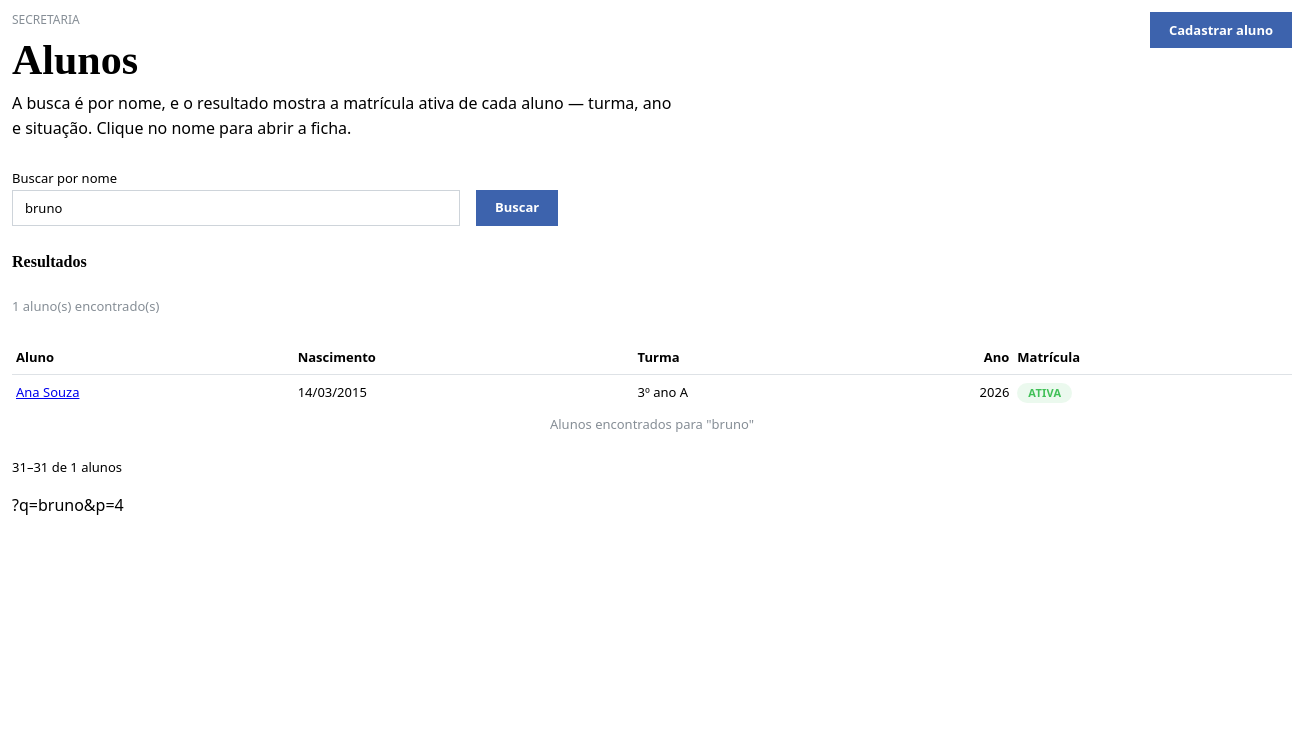
Scenario: searching › a new search drops the page from the address, where a bookmarkable `p=4` would make a search that found something read as a search that found nothing
Check: the link "Ana Souza" is shown, box [16, 383, 80, 401]
Step 1. Replace the text in the field labelled "Buscar por nome" with "ana" → (236, 208), box [12, 190, 460, 226]
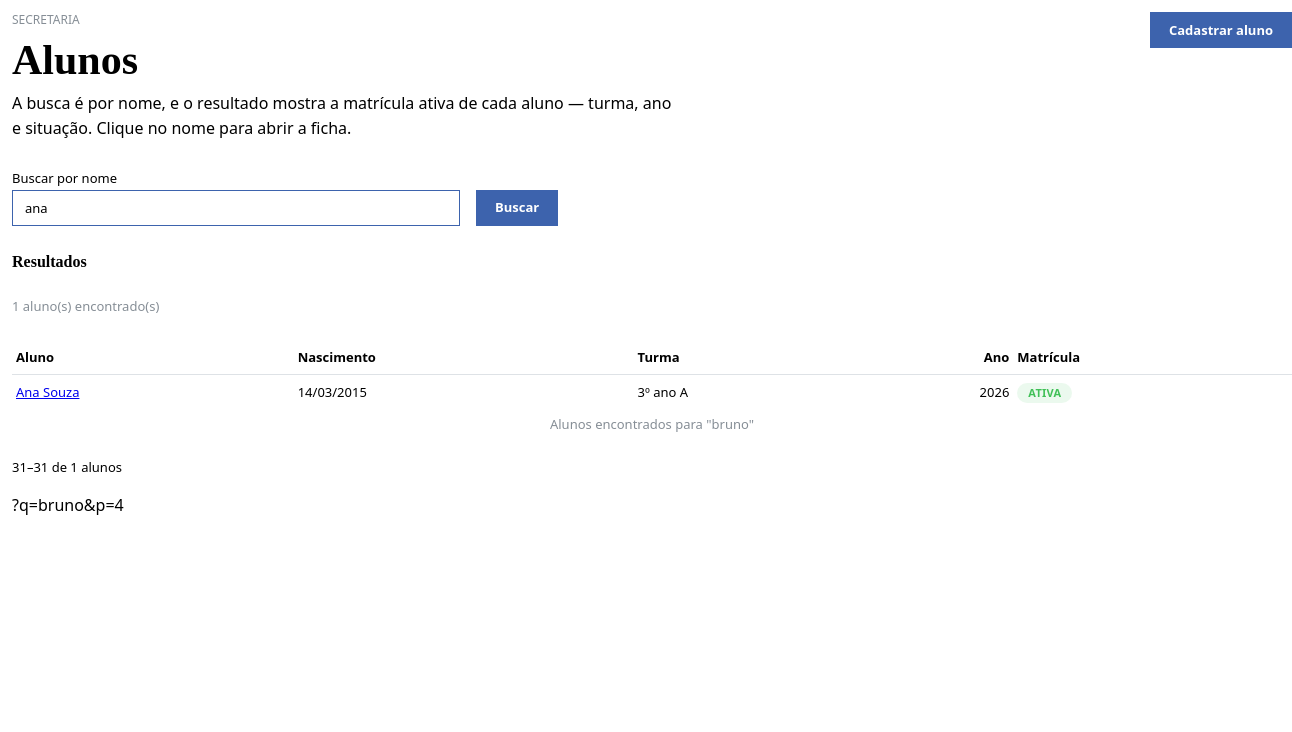
Step 2. Click the button "Buscar" → (517, 208), box [476, 190, 558, 226]
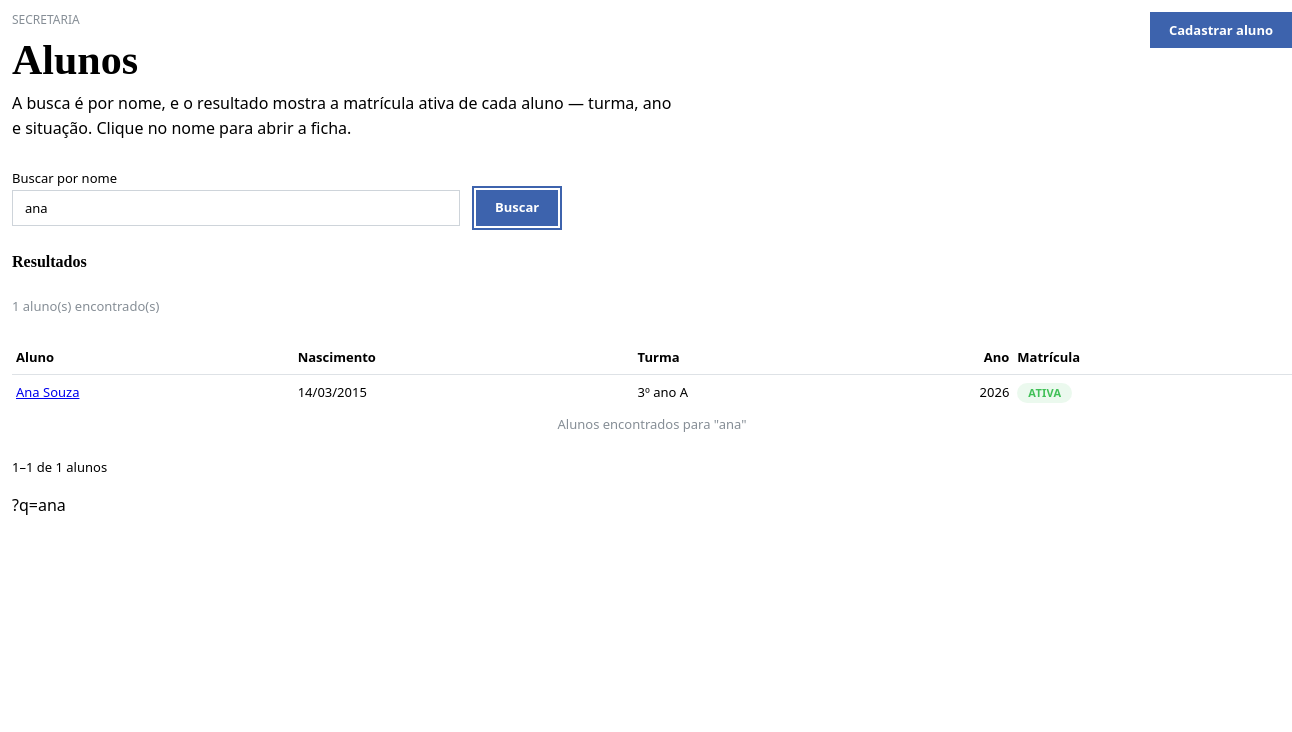
Check: the text with test id "endereco" reads "?q=ana", box [12, 494, 66, 516]
Check: the text with test id "endereco" no longer shows "p="
